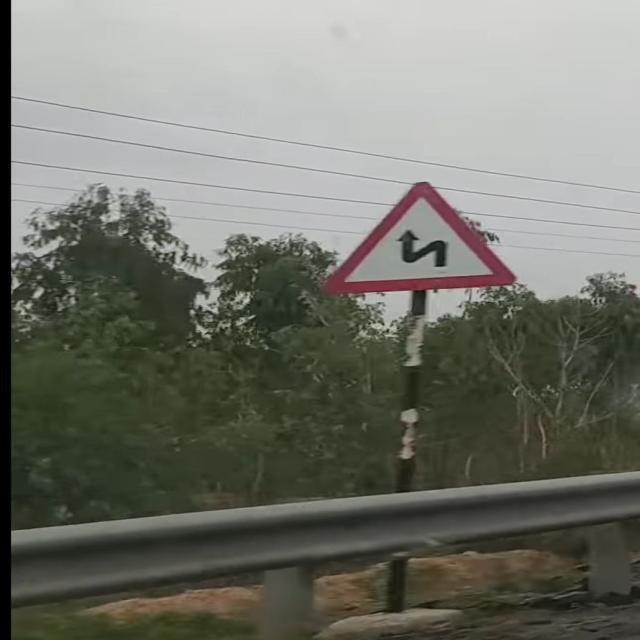left reverse bend: (323, 179, 521, 295)
